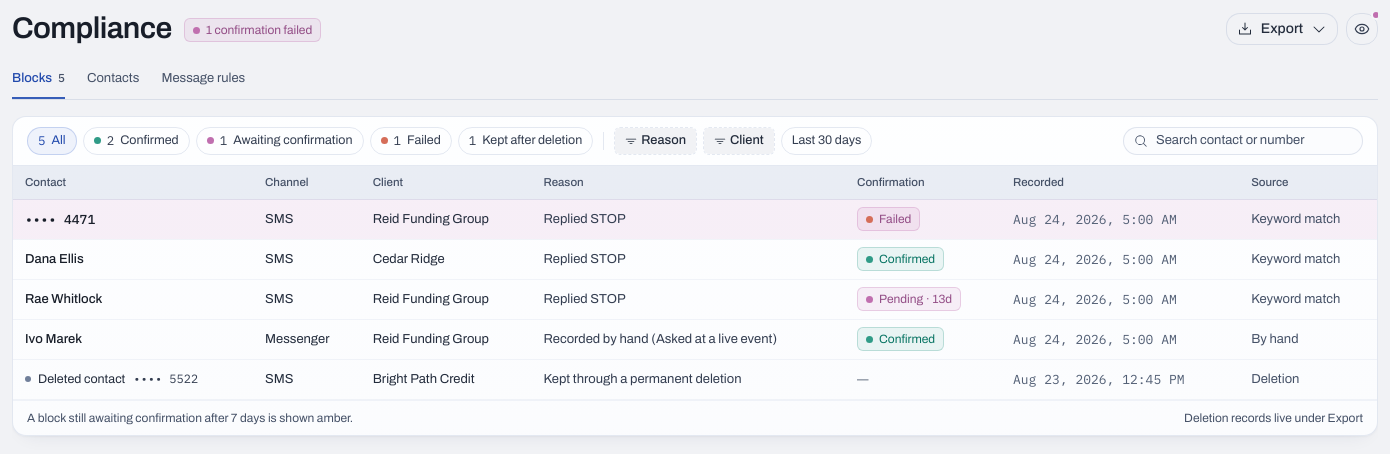
Test: OwnerCompliance › says nothing matches once the filters exclude every row
Type "nobody by that name" into the search field named "Search contact, number, client or reason".
click(1254, 141); type("nobody by that name")  # box [1156,131,1352,150]
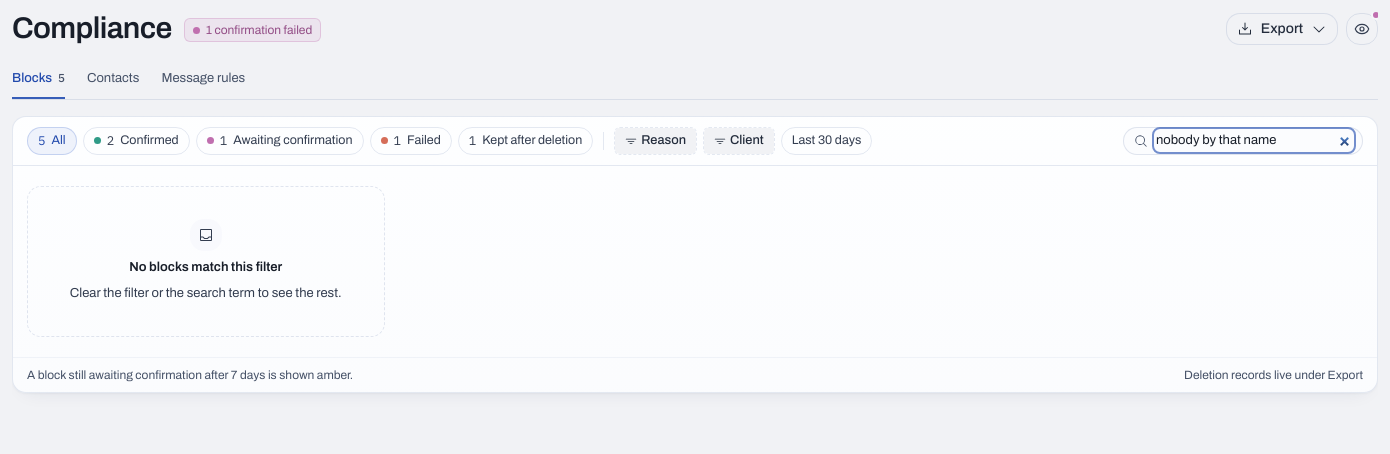
expect the heading "No blocks match this filter" is shown: met, box [129,258,282,276]
